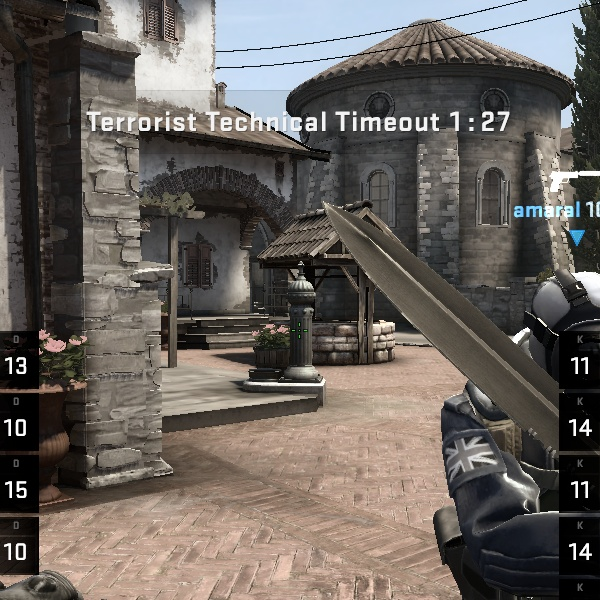ct_head: (506, 251, 599, 434)
